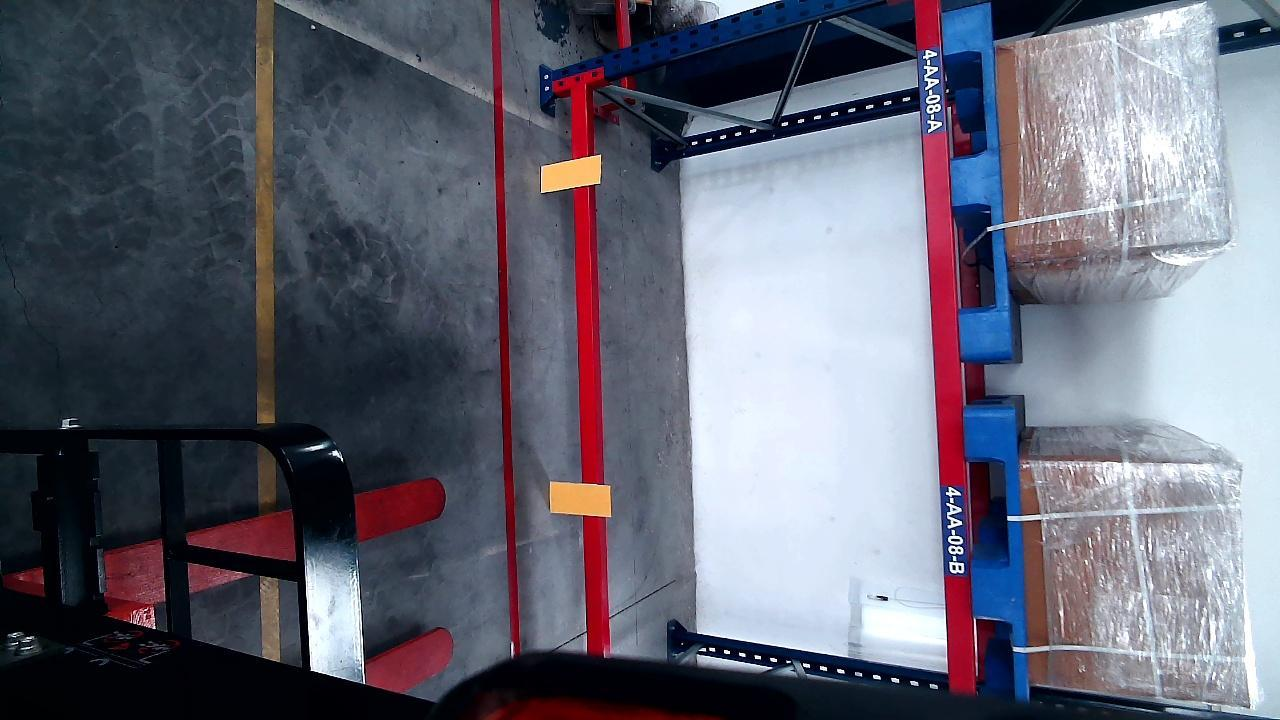red_line: (489, 2, 518, 654)
yellow_line: (253, 5, 277, 408)
